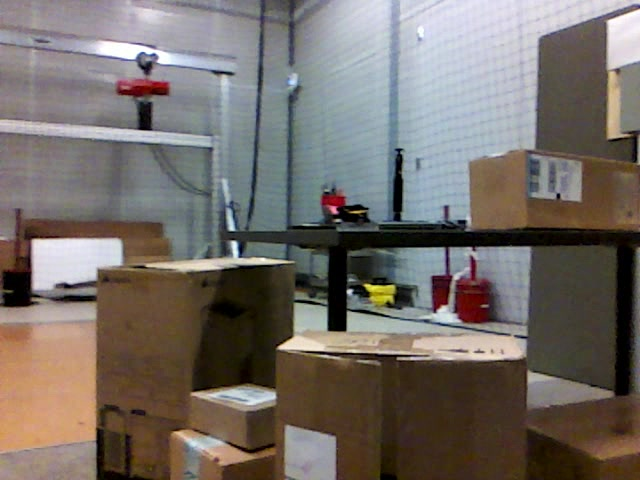box: (98, 257, 294, 480), (276, 331, 525, 480), (470, 150, 640, 227), (526, 398, 640, 480), (189, 383, 280, 447), (169, 431, 282, 480)
